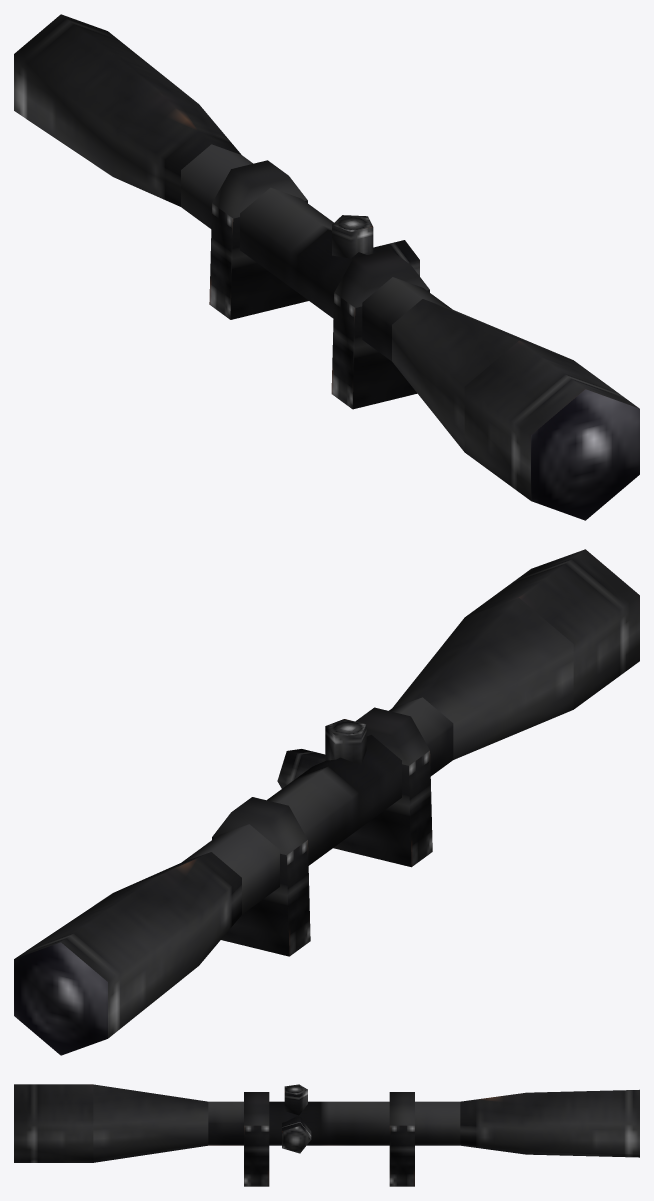
File: scope_fbx.fbx
3 views of the same model, one above another, from view 1: azimuth 30°, elevation 25°; view 2: azimuth 150°, elevation 25°; view 3: azimuth 270°, elevation 25° (orthographic). The views are drawn at different scales.
Visible parts, largest first — view 1: Scope; view 2: Scope; view 3: Scope.
Boxes of the visible parts, left/top/right/bottom form: Scope: left=14, top=14, right=639, bottom=520; Scope: left=14, top=549, right=639, bottom=1055; Scope: left=14, top=1084, right=639, bottom=1186.
Size of the model in its own units: 13.65 by 17.44 by 109.
1 material, 1 textured.
